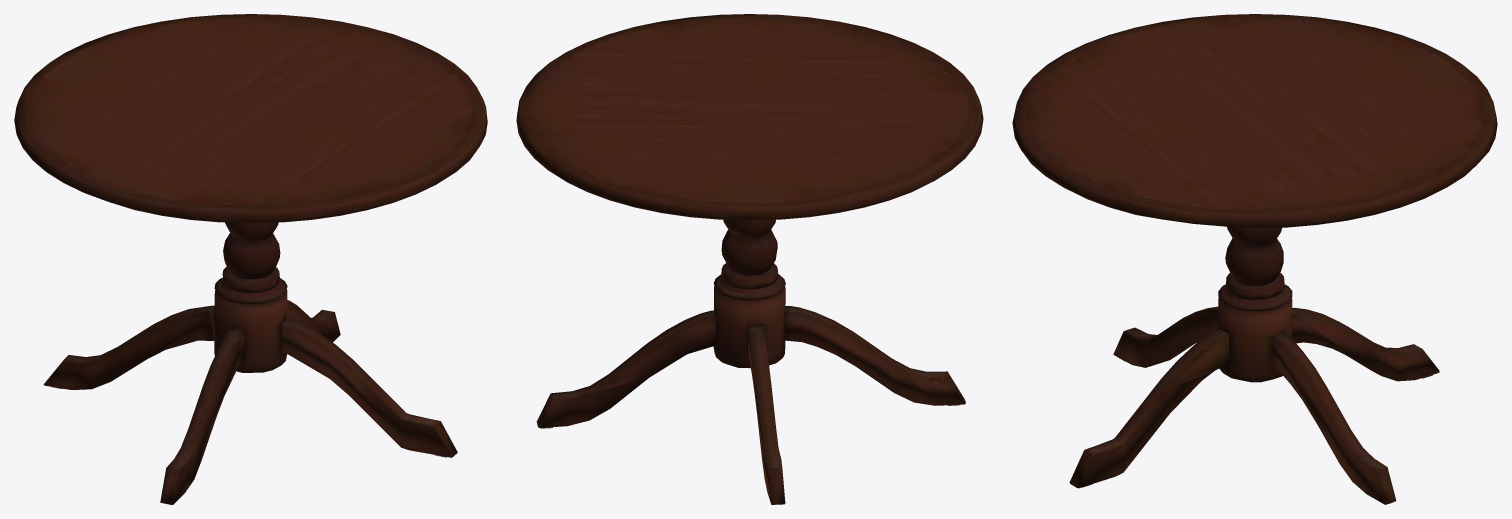
File: round_wooden_table_01.glb
3 views of the same model, side by side, from view 1: azimuth 30°, elevation 25°; view 2: azimuth 150°, elevation 25°; view 3: azimuth 270°, elevation 25° (orthographic). The views are drawn at different scales.
Visible parts, largest first — view 1: round_wooden_table_01; view 2: round_wooden_table_01; view 3: round_wooden_table_01.
Part boxes in pixels (left/top/right/bottom): round_wooden_table_01: left=14, top=14, right=487, bottom=504; round_wooden_table_01: left=516, top=14, right=983, bottom=504; round_wooden_table_01: left=1012, top=14, right=1497, bottom=504.
Size of the model in its own units: 1.4 by 1 by 1.4.
1 material, 1 textured.
